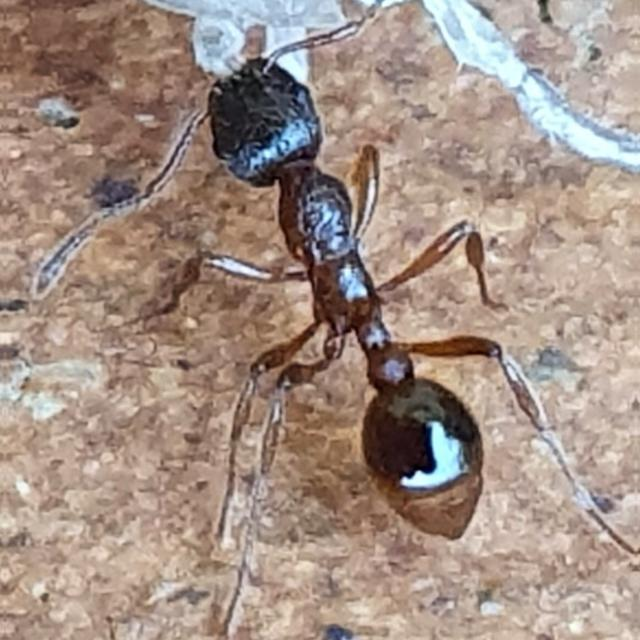Myrmica: (123, 1, 635, 557)
